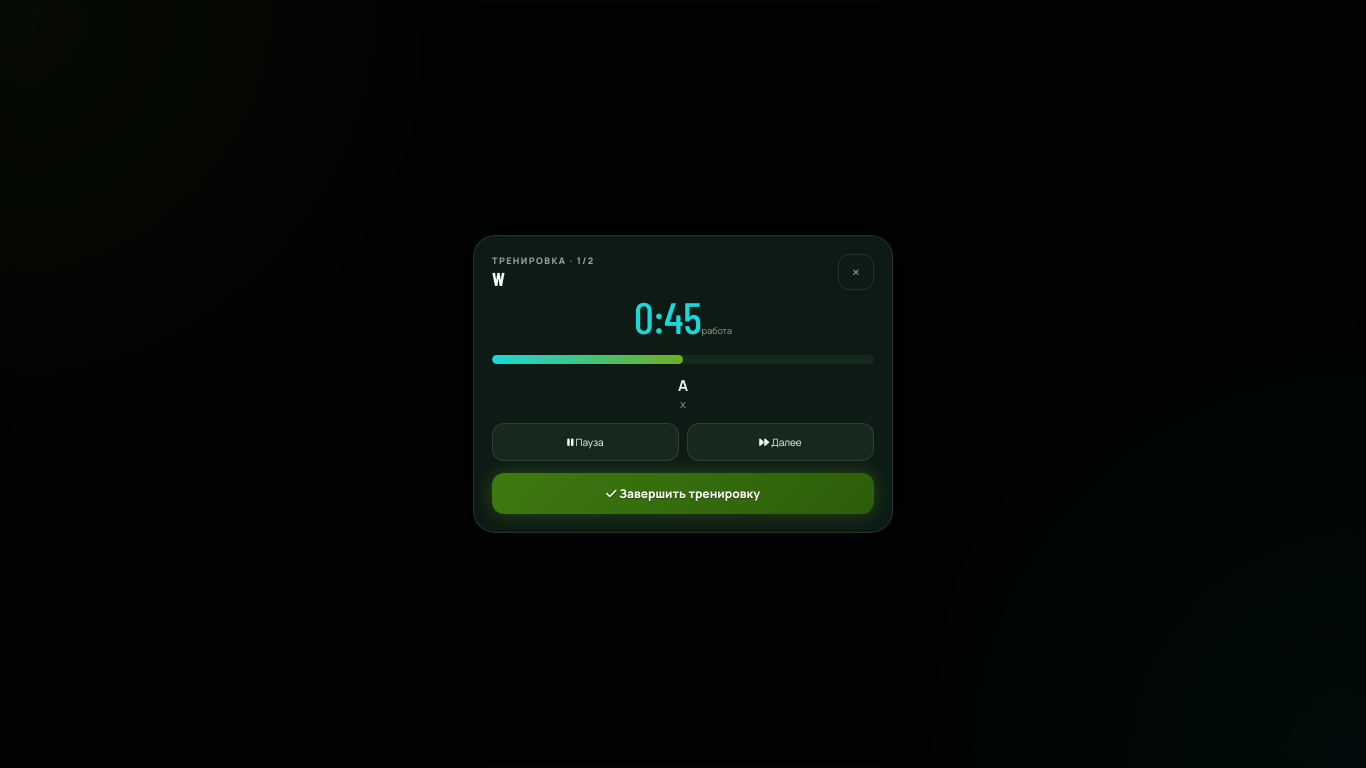
Test: WorkoutSession › advances from rest to the next exercise via the Next button
Click the button "Далее" at (780, 442), box [687, 423, 874, 461]
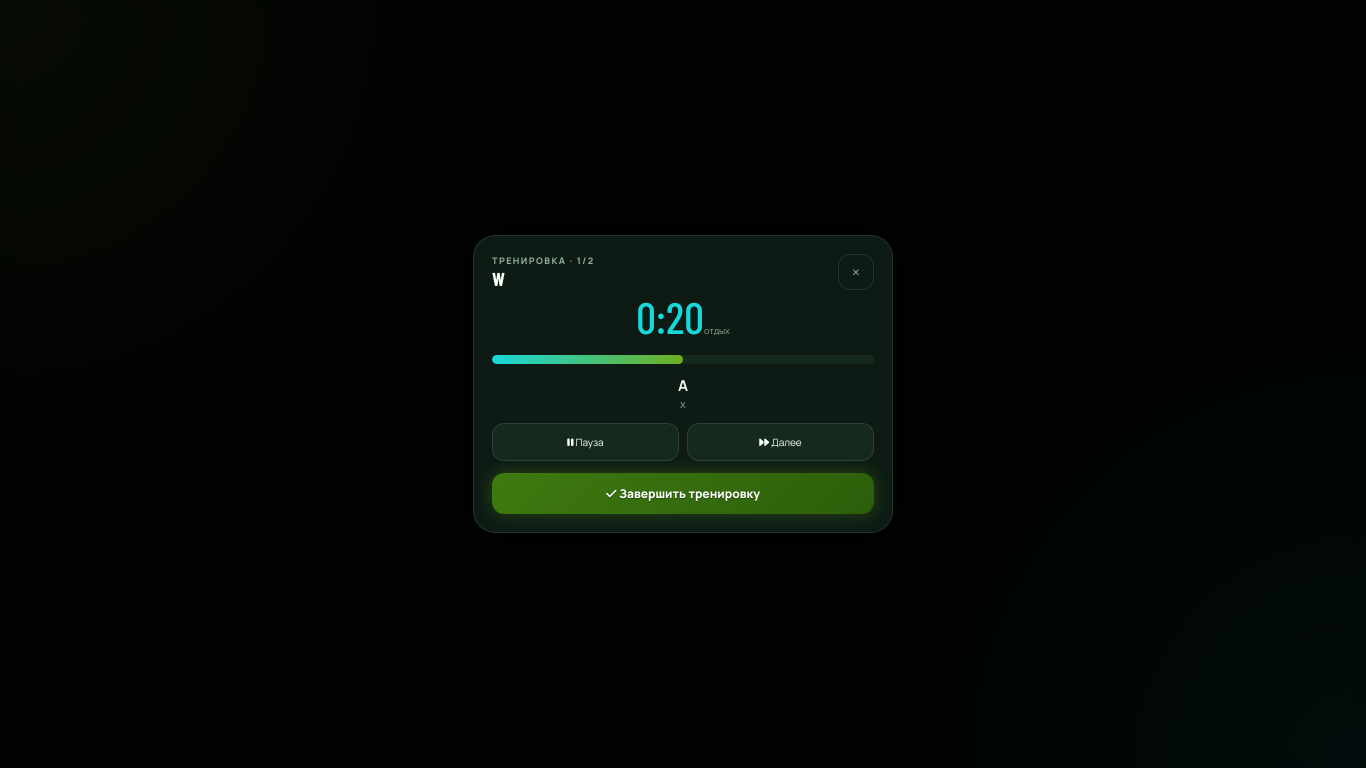
Expected: the text "отдых" is shown, [704, 324, 730, 337]
Click the button "Далее" at (780, 442), box [687, 423, 874, 461]
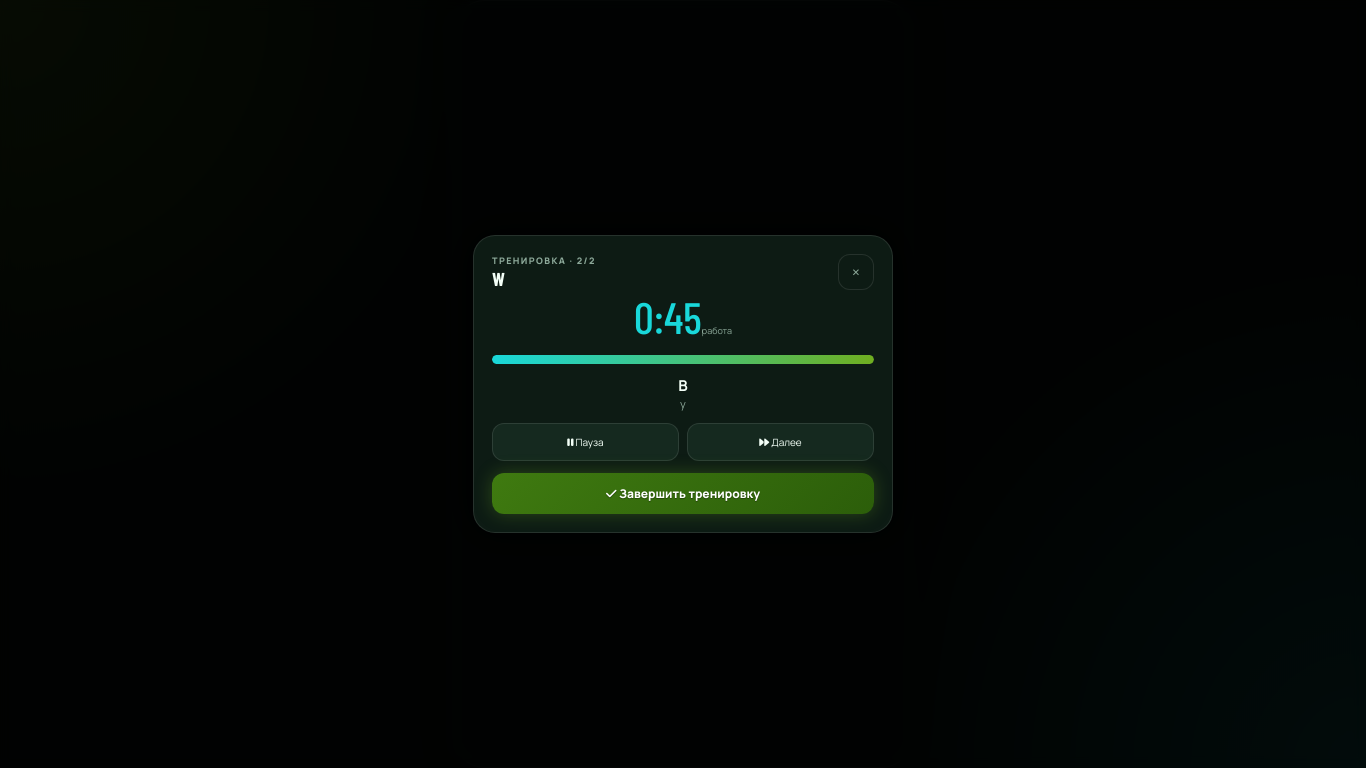
Expected: the text "работа" is shown, [702, 324, 732, 337]
Expected: the text "B" is shown, [678, 375, 688, 396]
